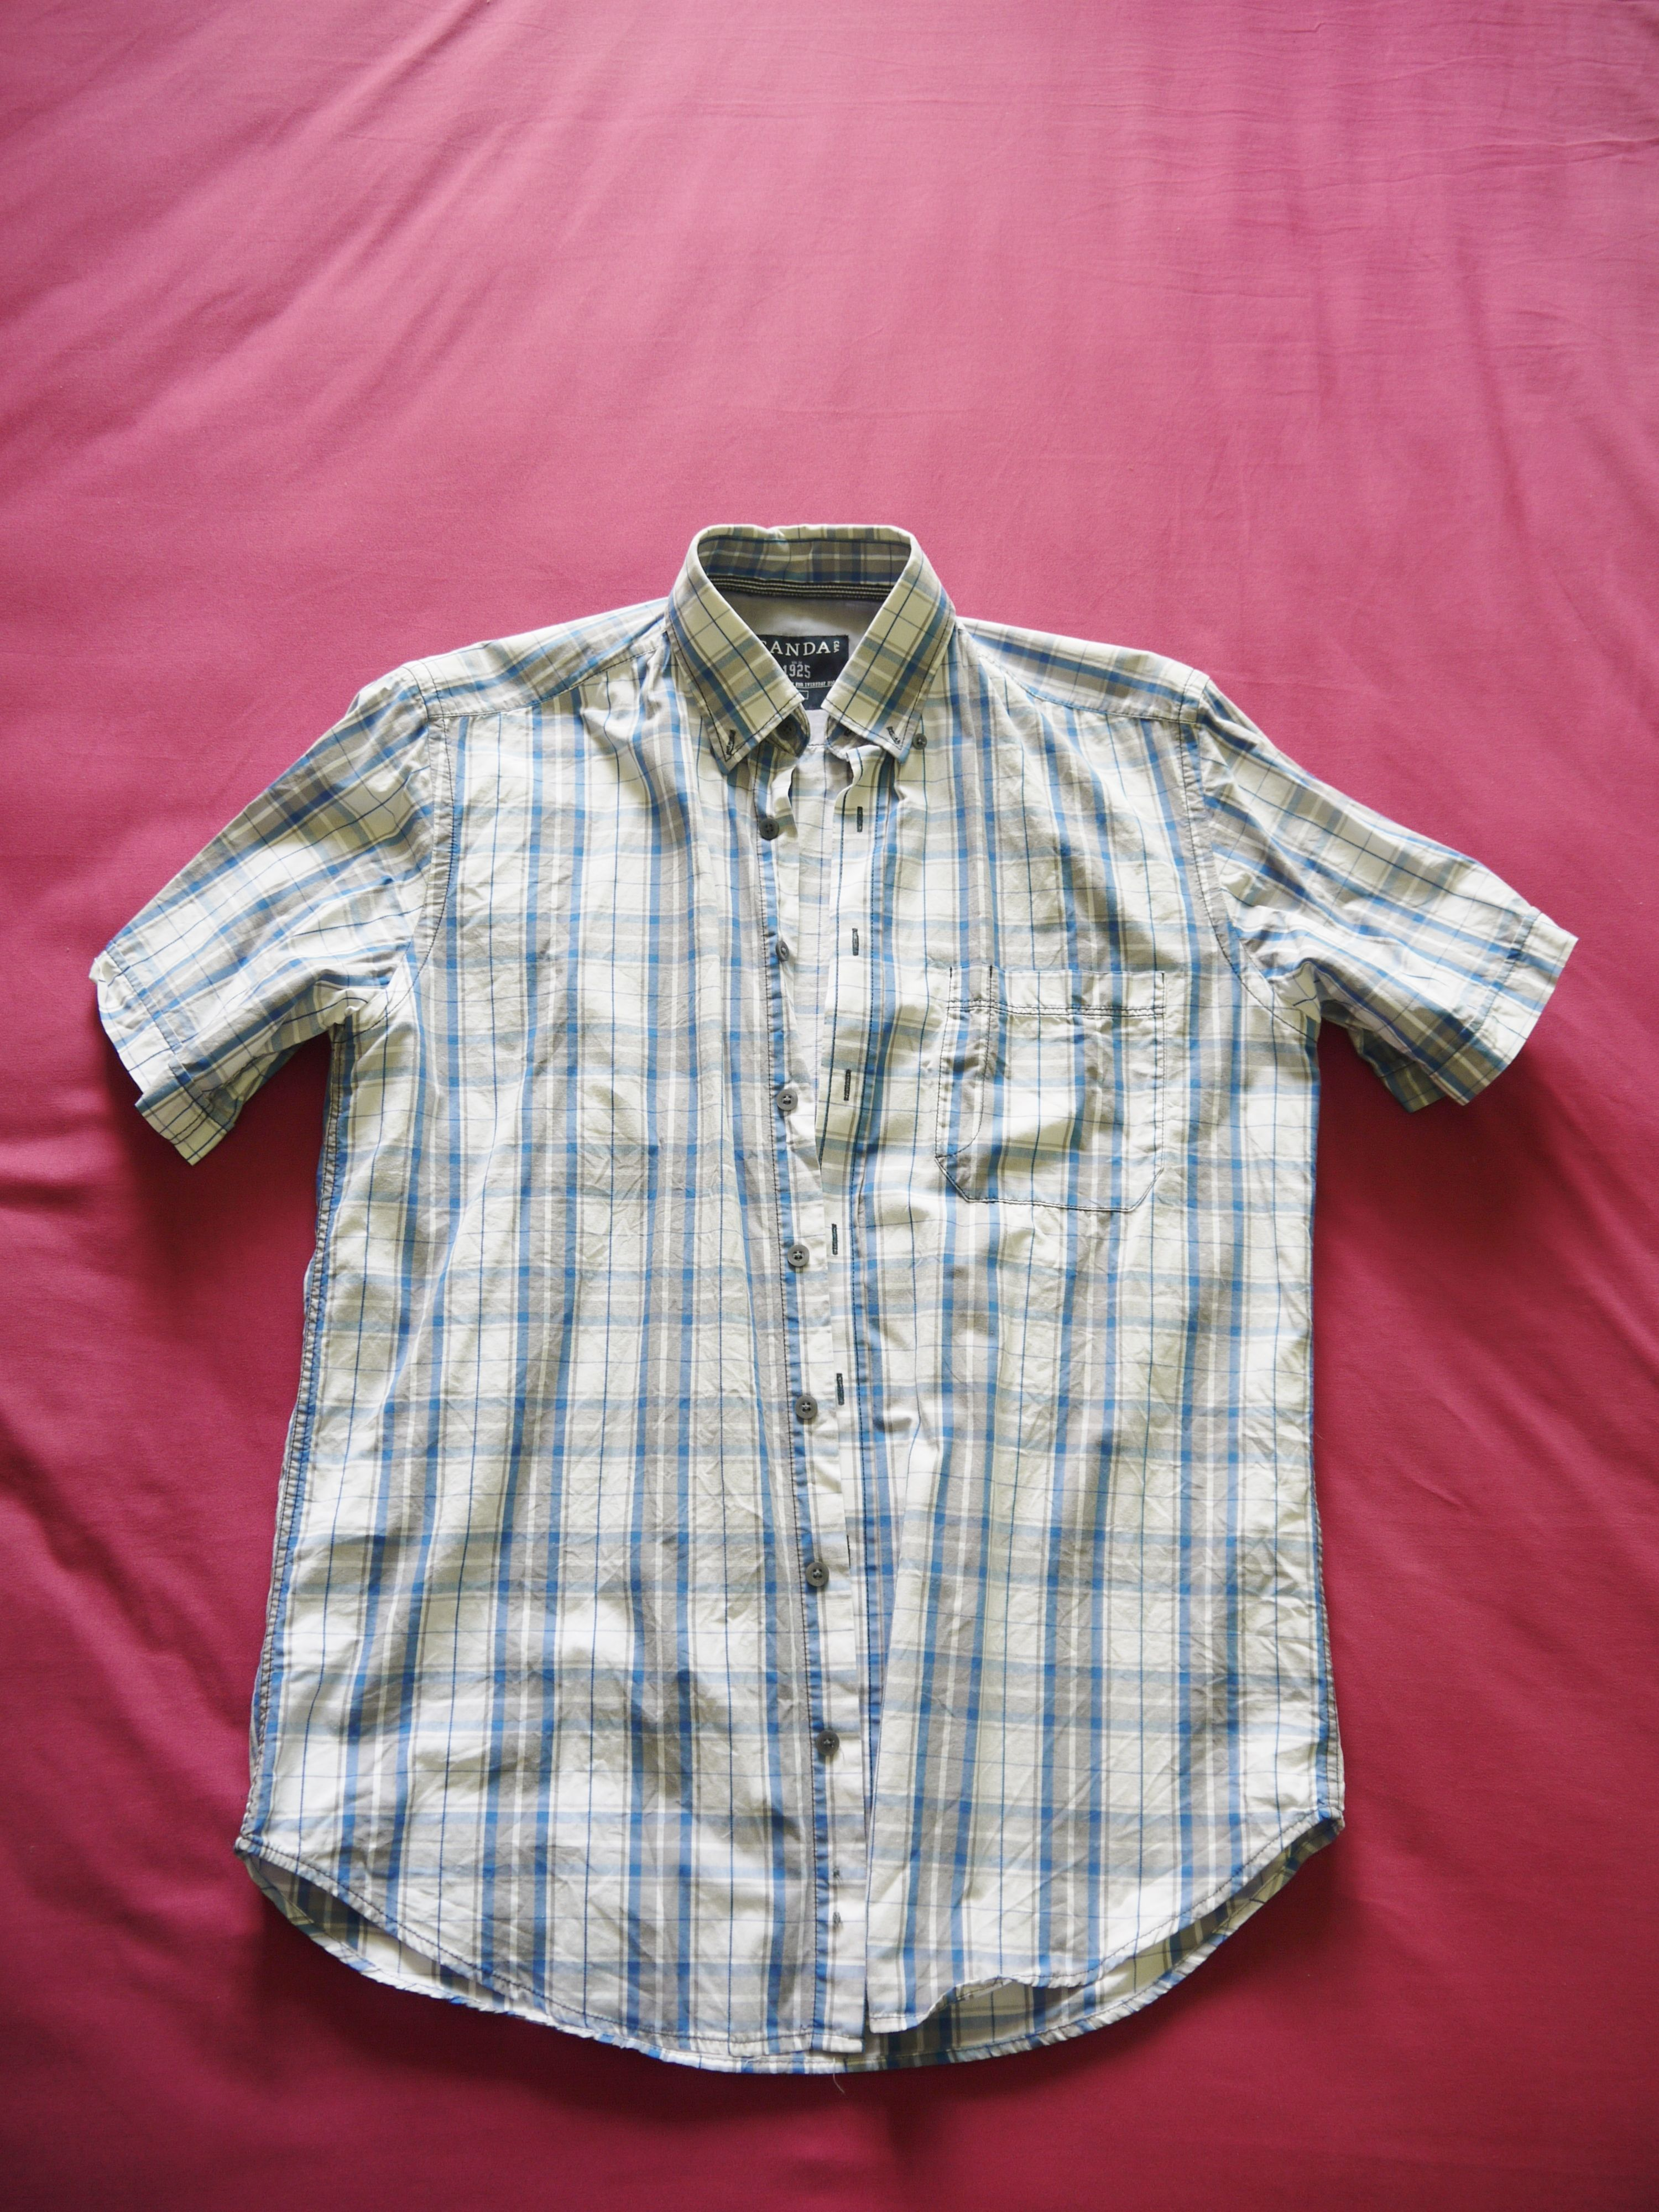clothes: (68, 519, 1574, 2067)
